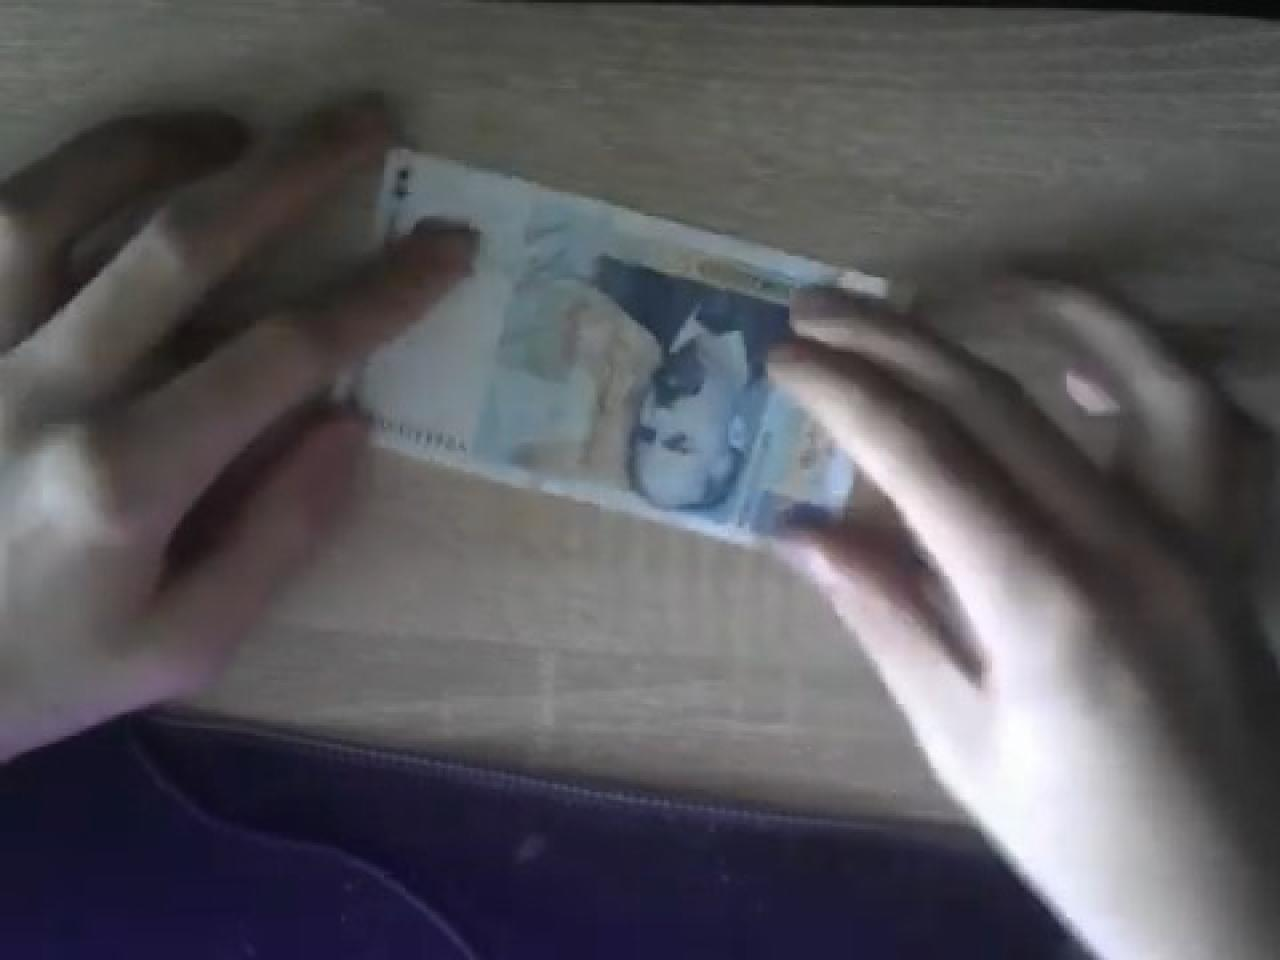20leva: (360, 141, 880, 544)
